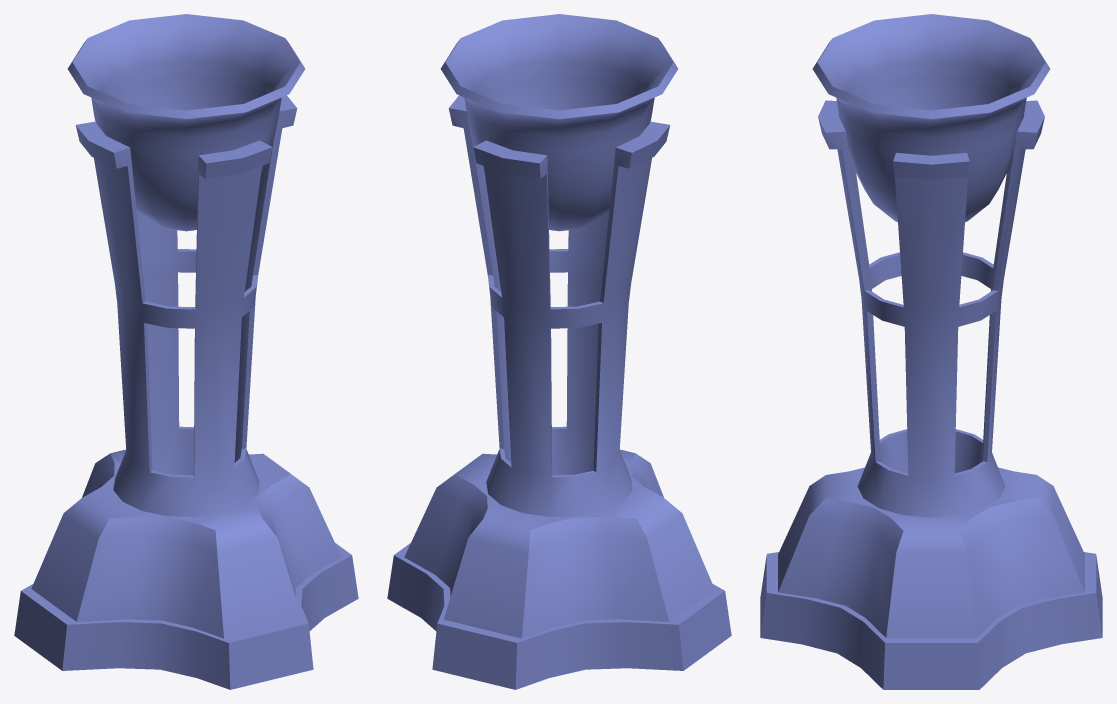
File: low_hwa.fbx
3 renders of one model, left to right at view 1: azimuth 30°, elevation 25°; view 2: azimuth 150°, elevation 25°; view 3: azimuth 270°, elevation 25°, orthographic.
Parts seen in each view (by area): view 1: hwaro1, hwaro; view 2: hwaro1, hwaro; view 3: hwaro1, hwaro.
Boxes of the visible parts, left/top/right/bottom form: hwaro1: left=14, top=95, right=358, bottom=689; hwaro: left=67, top=14, right=305, bottom=231; hwaro1: left=387, top=95, right=731, bottom=689; hwaro: left=440, top=14, right=678, bottom=231; hwaro1: left=760, top=100, right=1102, bottom=689; hwaro: left=812, top=14, right=1050, bottom=222.
Bounding box in the file's own units: 38.76 × 69.38 × 38.74.
